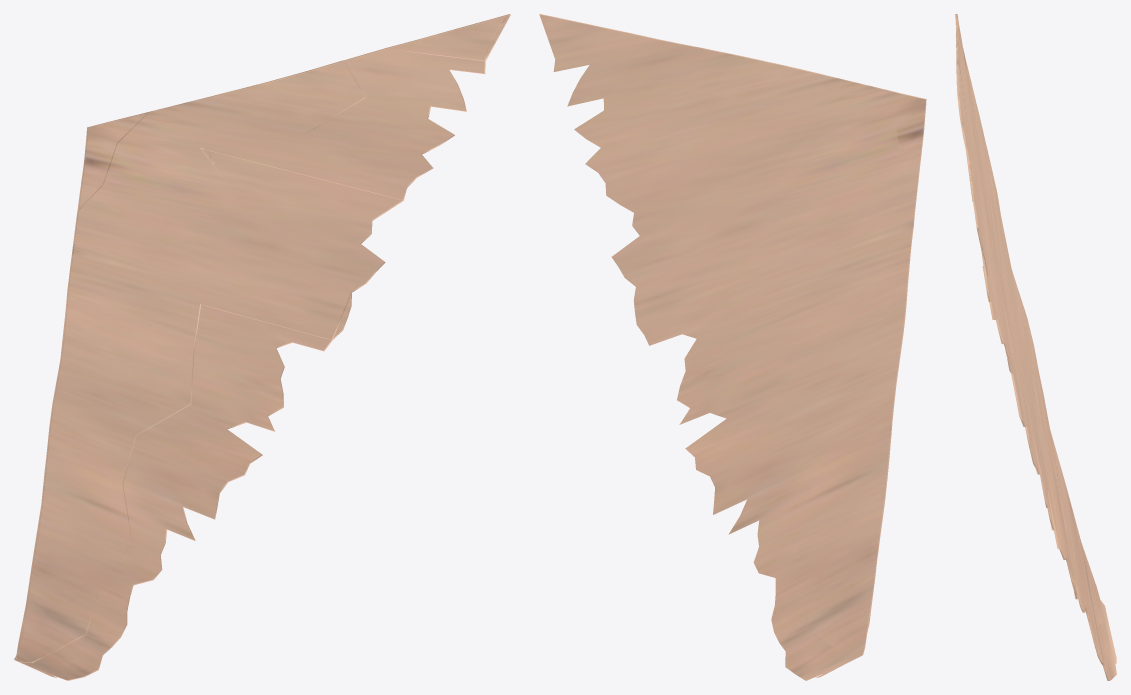
3 views of the same model, side by side, from view 1: azimuth 30°, elevation 25°; view 2: azimuth 150°, elevation 25°; view 3: azimuth 270°, elevation 25° (orthographic). The views are drawn at different scales.
Size of the model in its own units: 20.2 by 27.83 by 6.47.
1 material, 1 textured.
